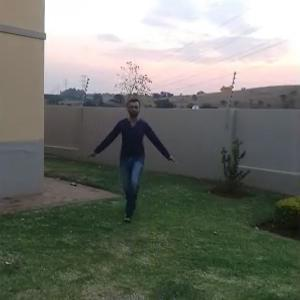land: (83, 91, 177, 237)
